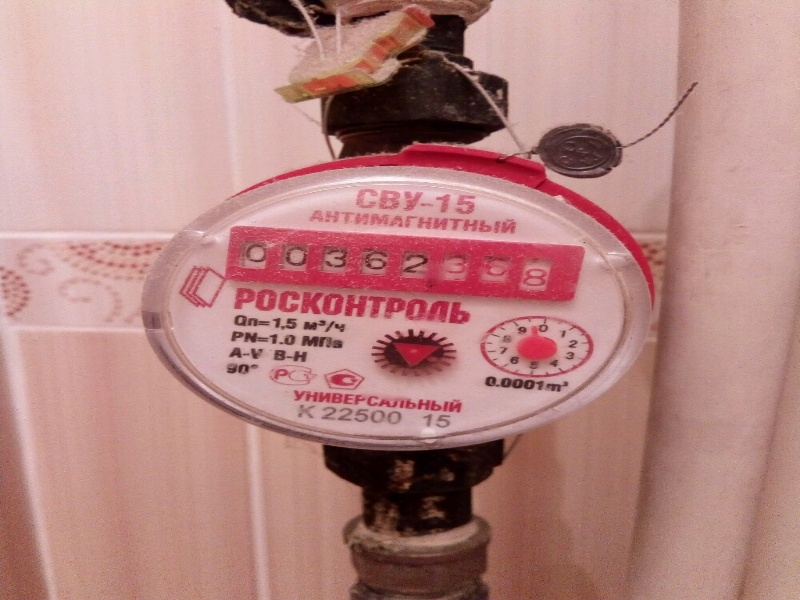meter: (231, 233, 573, 287)
